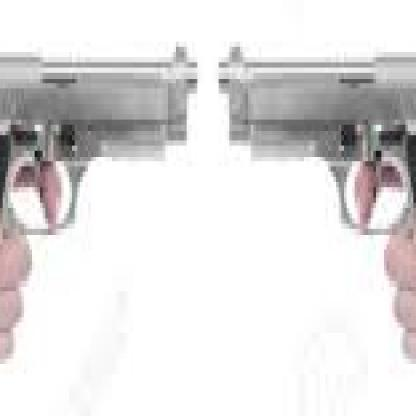gun: (0, 15, 201, 415), (222, 26, 414, 390)
